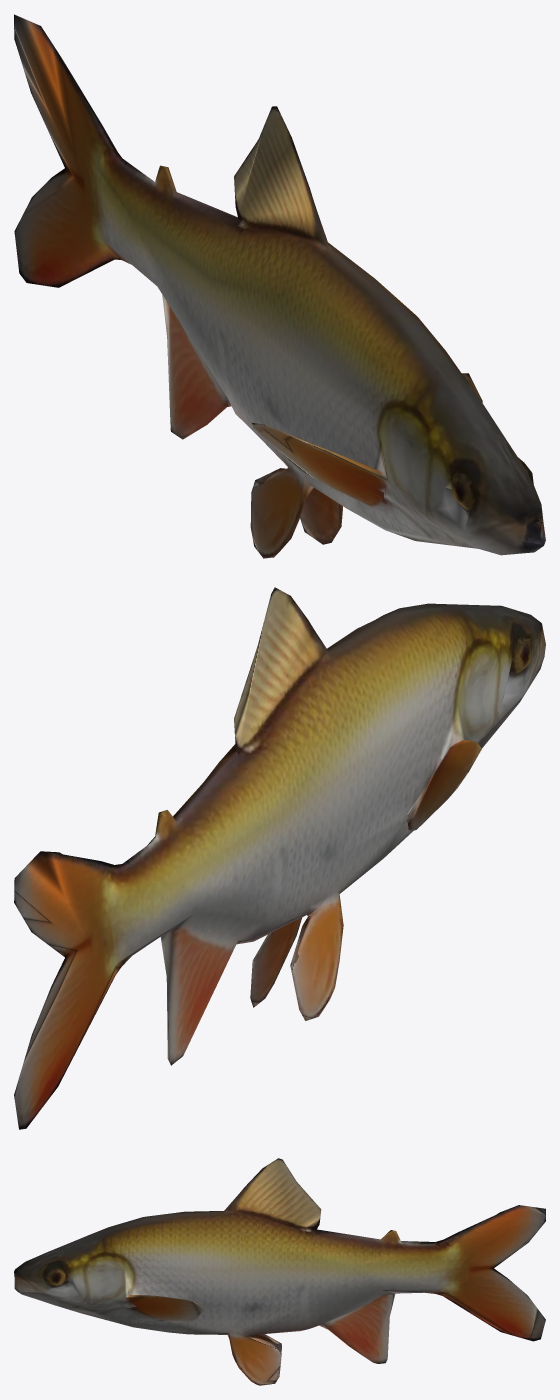
The model's file is golden-orfe_lo.glb.
3 renders of one model, top to bottom at view 1: azimuth 30°, elevation 25°; view 2: azimuth 150°, elevation 25°; view 3: azimuth 270°, elevation 25°, orthographic. The views are drawn at different scales.
Visible parts, largest first — view 1: geometry_0; view 2: geometry_0; view 3: geometry_0.
Boxes of the visible parts, x1,y1,x2,y2 form: geometry_0: (14, 14, 545, 558); geometry_0: (14, 587, 545, 1129); geometry_0: (14, 1158, 545, 1385).
Bounding box in the file's own units: 0.23 × 0.4599 × 0.9999.
Materials: 1 (1 with a texture image).
